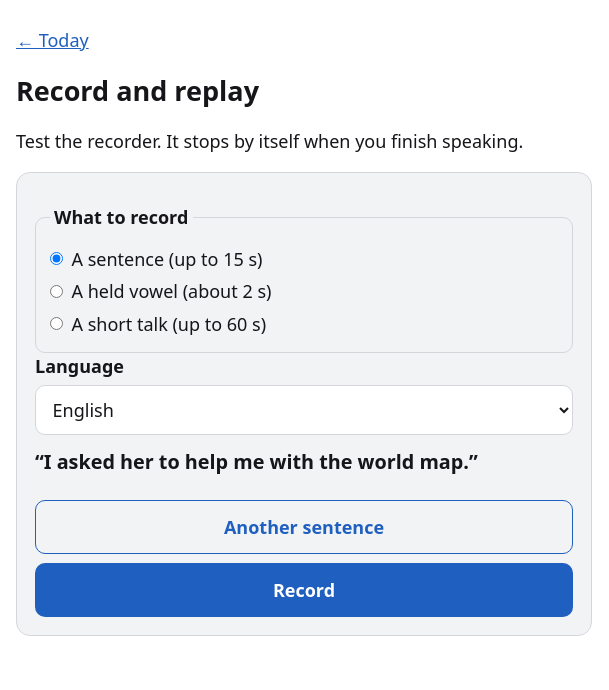
record screen › Recorder_RetakeReason_Shown
Step 1. Click the button "Record" → (304, 590), box [35, 563, 573, 617]
(page scrolled)
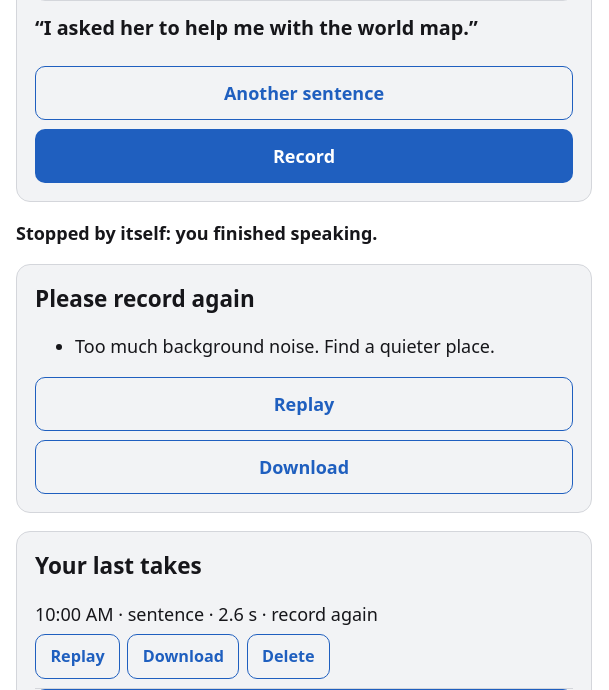
expect the heading "Please record again" is shown: met, box [35, 283, 255, 314]
expect the list item "Too much background noise. Find a quieter place." is shown: met, box [75, 334, 495, 358]
